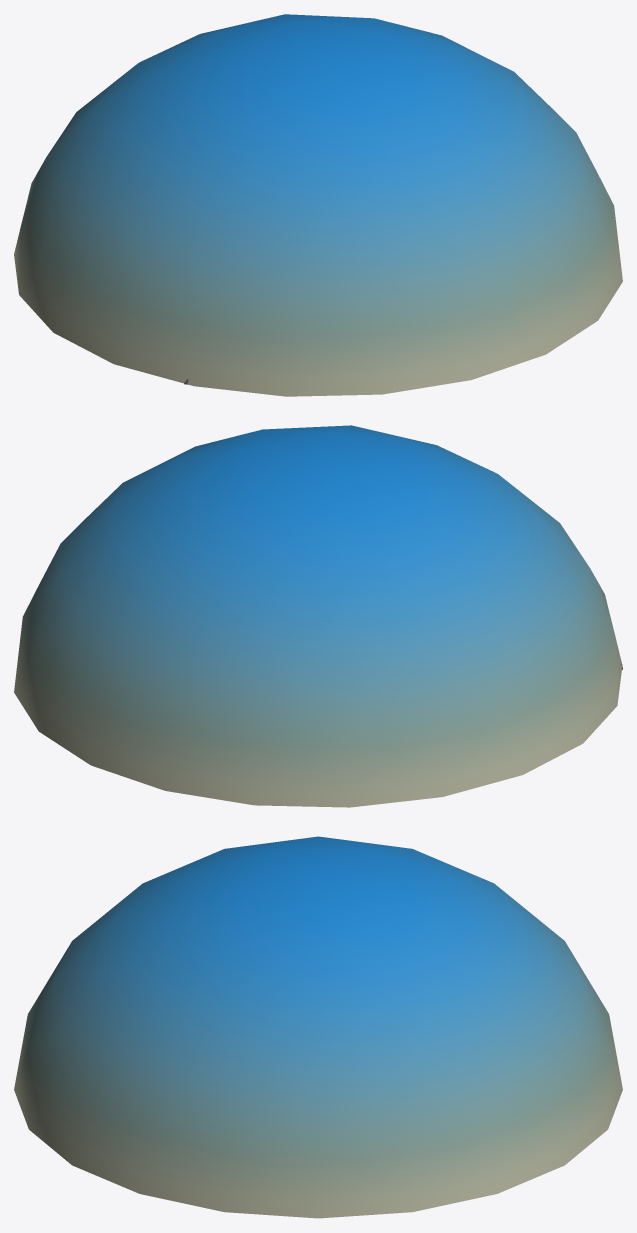
Rendered from SkyDome.fbx.
3 views of the same model, one above another, from view 1: azimuth 30°, elevation 25°; view 2: azimuth 150°, elevation 25°; view 3: azimuth 270°, elevation 25° (orthographic).
Parts seen in each view (by area): view 1: SkyDome; view 2: SkyDome; view 3: SkyDome.
Part boxes in pixels (x1,y1,x2,y2): SkyDome: [14, 14, 622, 396]; SkyDome: [14, 425, 621, 807]; SkyDome: [14, 836, 622, 1218].
Size of the model in its own units: 98820 by 39336 by 98820.
Materials: 3 (2 with a texture image).
